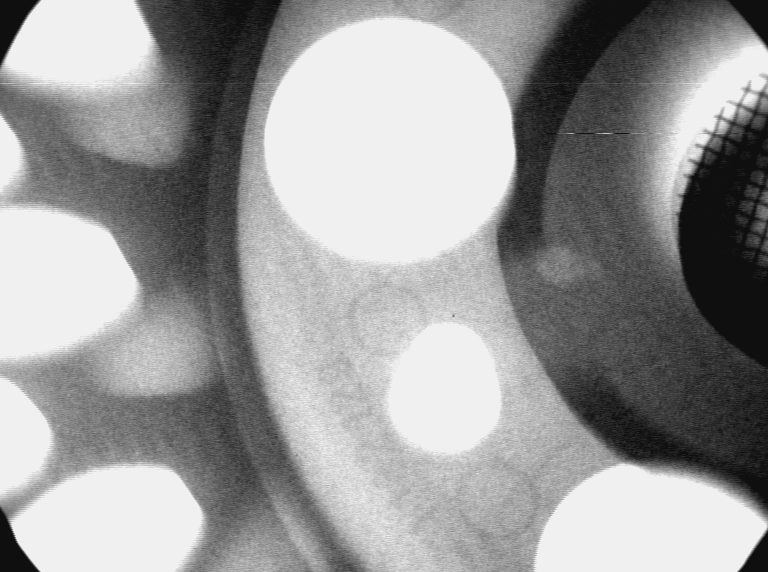defect: (537, 245, 608, 295)
